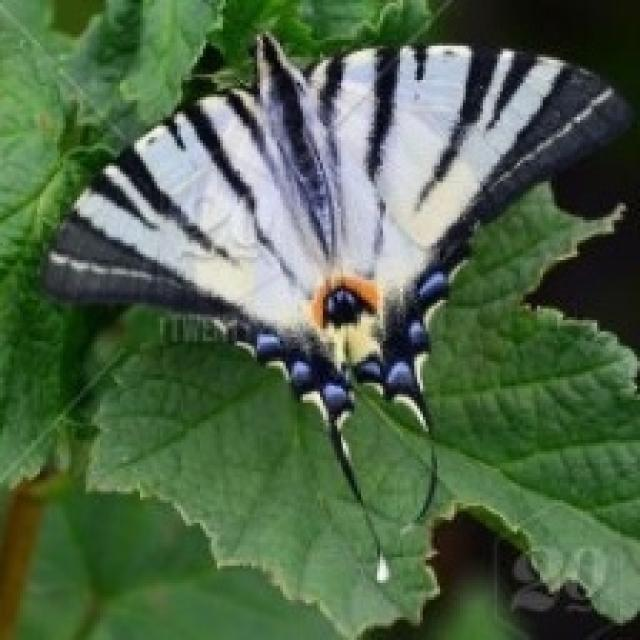butterfly: (37, 28, 634, 583)
